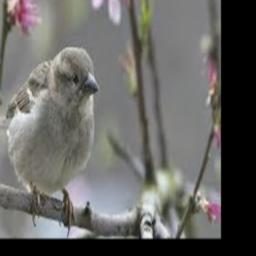Sparrow: (0, 46, 100, 235)
